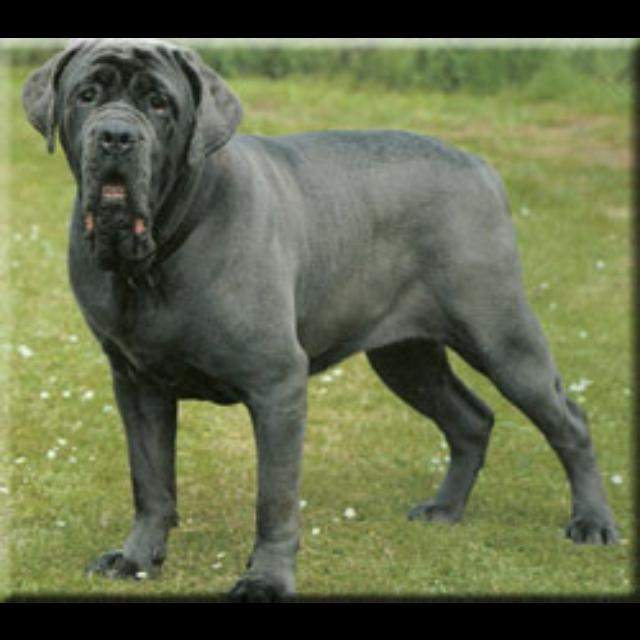mastino_napoletano: (22, 39, 621, 602)
